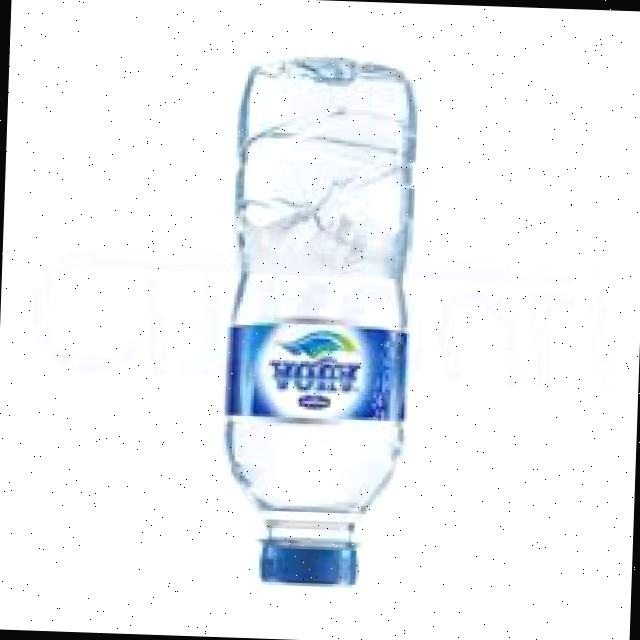bottle: (204, 45, 462, 610)
cap: (256, 538, 364, 592)
